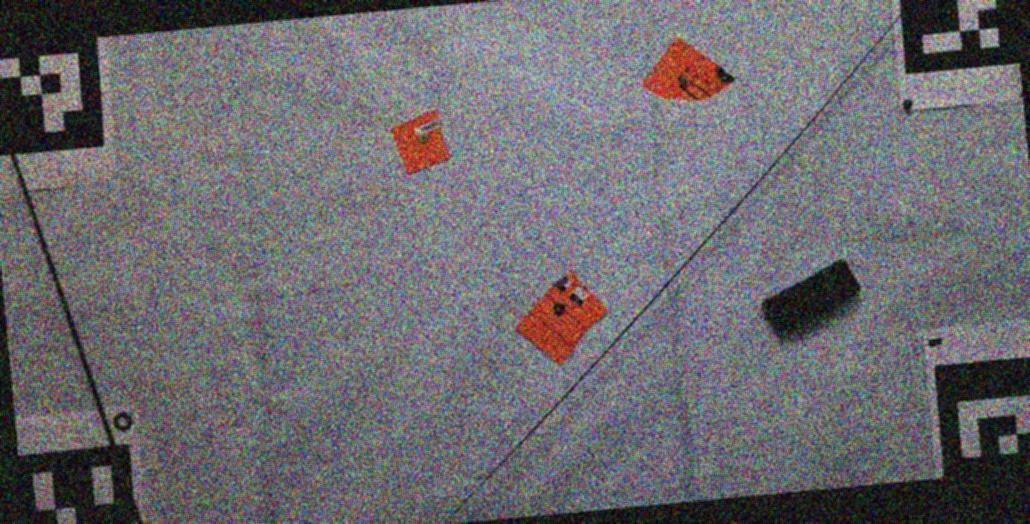obstacle: (515, 270, 608, 365), (760, 259, 860, 340), (641, 35, 735, 104), (392, 110, 454, 177)
